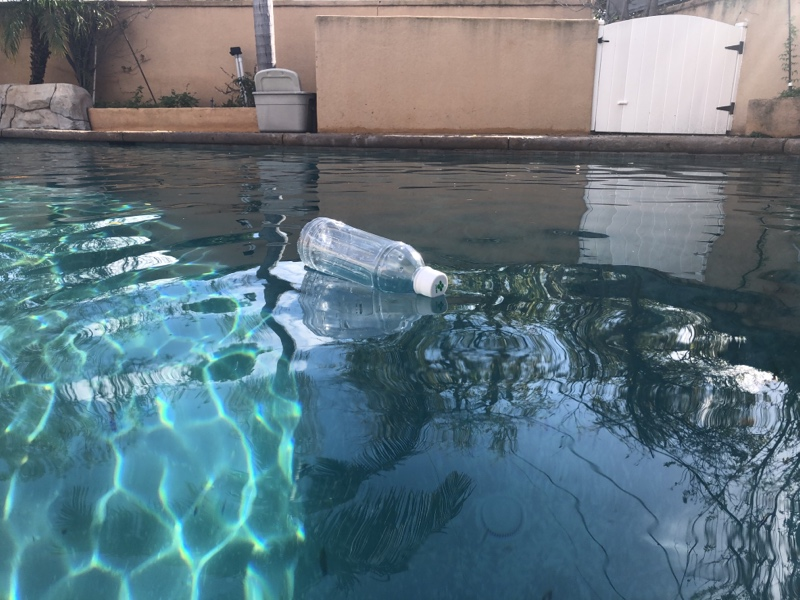Plastic Bottle: (294, 216, 453, 302)
